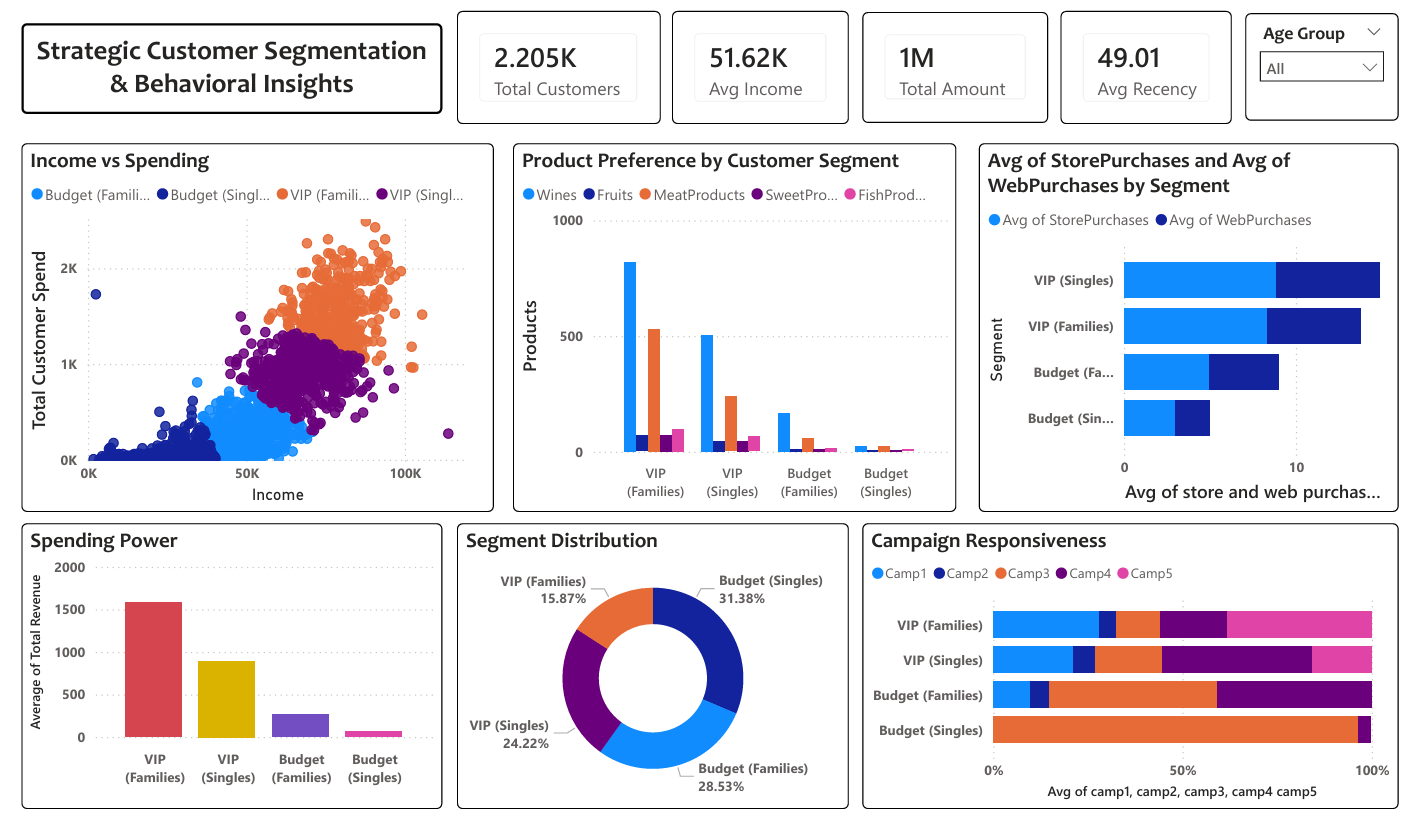

What the dashboard file says about the page in this screenshot:
{"tool":"powerbi","page":{"name":"Page 1","canvas":[1280,720],"ordinal":0},"visuals":[{"type":"donutChart","title":"Segment Distribution","fields":{"Category":["final_segmented_customers.Segment"],"Y":["CountNonNull(final_segmented_customers.Income)"]},"box":[410.5,465.1,350,254.7],"z":0},{"type":"scatterChart","title":"Income vs Spending","fields":{"X":["final_segmented_customers.Income"],"Y":["final_segmented_customers.MntTotal"],"Series":["final_segmented_customers.Segment"]},"box":[20.9,125.6,422.1,329.1],"z":1000},{"type":"clusteredColumnChart","title":"Spending Power","fields":{"Category":["final_segmented_customers.Segment"],"Y":["Avg(final_segmented_customers.MntTotal)"]},"box":[20.9,465.1,375.6,254.7],"z":2000},{"type":"slicer","fields":{"Values":["final_segmented_customers.Age_Group"]},"box":[1114.3,10,137.1,95.7],"z":3000},{"type":"clusteredColumnChart","title":"Product Preference by Customer Segment","fields":{"Category":["final_segmented_customers.Segment"],"Y":["Avg(final_segmented_customers.MntWines)","Avg(final_segmented_customers.MntFruits)","Avg(final_segmented_customers.MntMeatProducts)","Avg(final_segmented_customers.MntSweetProducts)","Avg(final_segmented_customers.MntFishProducts)"]},"box":[460.5,125.6,395.3,329.1],"z":4000},{"type":"cardVisual","fields":{"Data":["CountNonNull(final_segmented_customers.Income)"]},"box":[410.5,8.1,181.4,101.2],"z":5000},{"type":"cardVisual","fields":{"Data":["Avg(final_segmented_customers.Income)"]},"box":[602.3,8.1,158.1,101.2],"z":6000},{"type":"cardVisual","fields":{"Data":["Sum(final_segmented_customers.MntTotal)"]},"box":[772.1,9.3,166.3,98.8],"z":7000},{"type":"cardVisual","fields":{"Data":["Avg(final_segmented_customers.Recency)"]},"box":[948.8,8.1,153.5,101.2],"z":8000},{"type":"textbox","box":[21.4,18.6,375.7,81.4],"z":9000},{"type":"barChart","fields":{"Category":["final_segmented_customers.Segment"],"Y":["Avg(final_segmented_customers.NumStorePurchases)","Avg(final_segmented_customers.NumWebPurchases)"]},"box":[875.6,125.6,375.6,329.1],"z":10000},{"type":"hundredPercentStackedBarChart","title":"Campaign Responsiveness","fields":{"Category":["final_segmented_customers.Segment"],"Y":["Avg(final_segmented_customers.AcceptedCmp1)","Avg(final_segmented_customers.AcceptedCmp2)","Avg(final_segmented_customers.AcceptedCmp3)","Avg(final_segmented_customers.AcceptedCmp4)","Avg(final_segmented_customers.AcceptedCmp5)"]},"box":[772.1,465.1,479.1,254.7],"z":11000}]}

Visuals, with their boxes in screenshot pixels (x1, y1, x2, y2), scaled from the page's 1280x720 canvas onto the 1423x818 screenshot:
"Segment Distribution" donutChart: (456, 528, 845, 817)
"Income vs Spending" scatterChart: (23, 143, 492, 517)
"Spending Power" clusteredColumnChart: (23, 528, 441, 817)
slicer - final_segmented_customers.Age_Group: (1239, 11, 1391, 120)
"Product Preference by Customer Segment" clusteredColumnChart: (512, 143, 951, 517)
cardVisual - CountNonNull(final_segmented_customers.Income): (456, 9, 658, 124)
cardVisual - Avg(final_segmented_customers.Income): (670, 9, 845, 124)
cardVisual - Sum(final_segmented_customers.MntTotal): (858, 11, 1043, 123)
cardVisual - Avg(final_segmented_customers.Recency): (1055, 9, 1225, 124)
textbox: (24, 21, 441, 114)
barChart - final_segmented_customers.Segment x Avg(final_segmented_customers.NumStorePurchases): (973, 143, 1391, 517)
"Campaign Responsiveness" hundredPercentStackedBarChart: (858, 528, 1391, 817)
